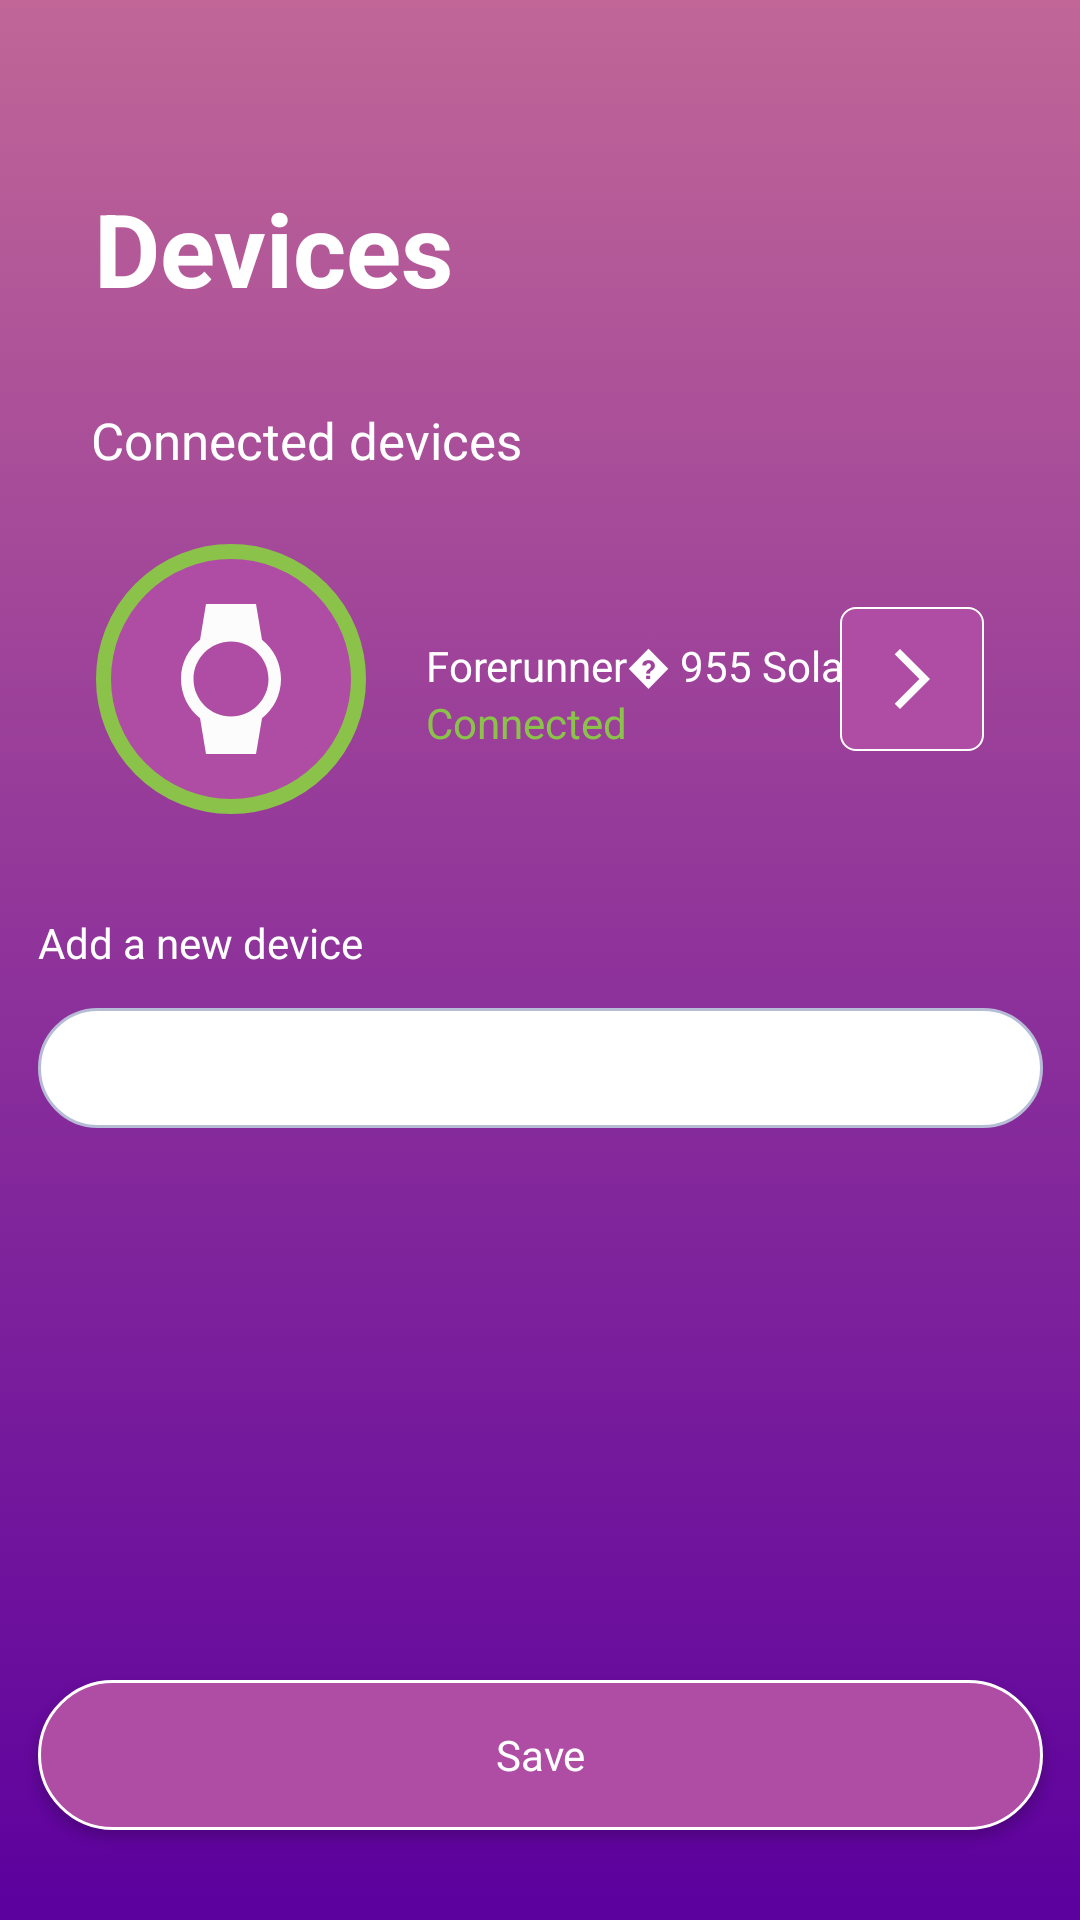

Where icons sit on this 1080w x 1920h app screen, as [left=x1, top=y1, right=x2, bottom=y2]:
devices watch: [left=96, top=544, right=366, bottom=814]
forward devices button: [left=840, top=607, right=984, bottom=751]
